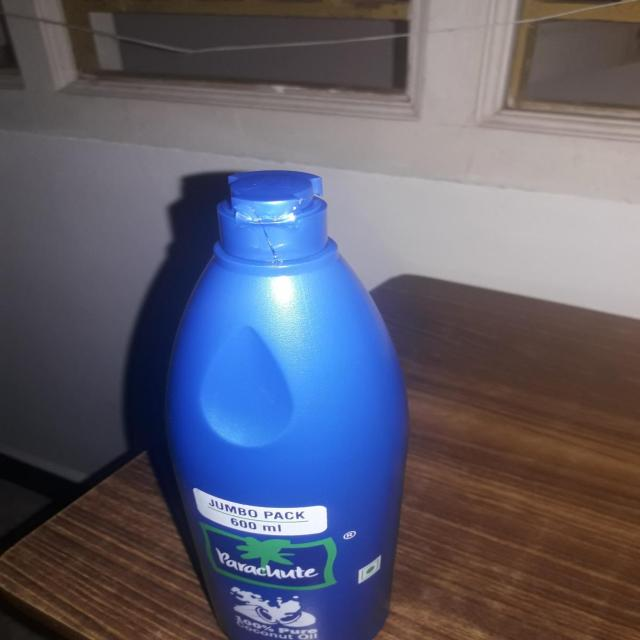parachute_oil: (148, 166, 416, 640)
